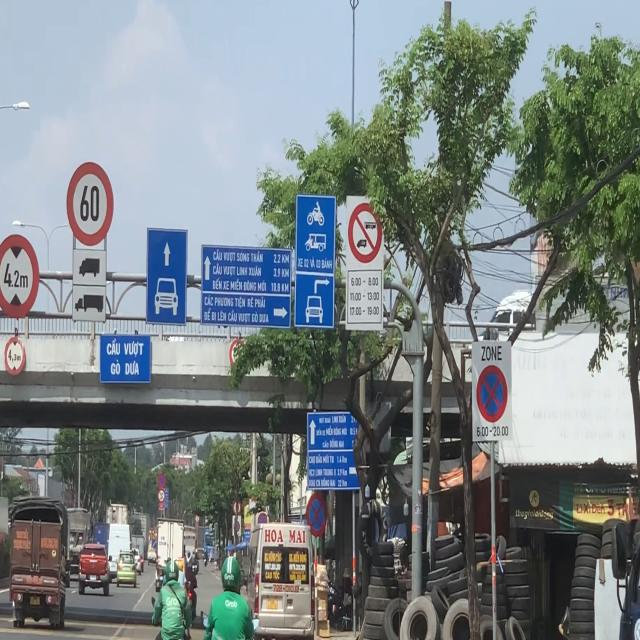Cam dung va do: (477, 364, 508, 422), (306, 493, 327, 537), (158, 473, 166, 488)
Chieu cao toi da: (0, 234, 40, 318), (4, 337, 26, 376)
Toc do toi da: (66, 161, 114, 247)
